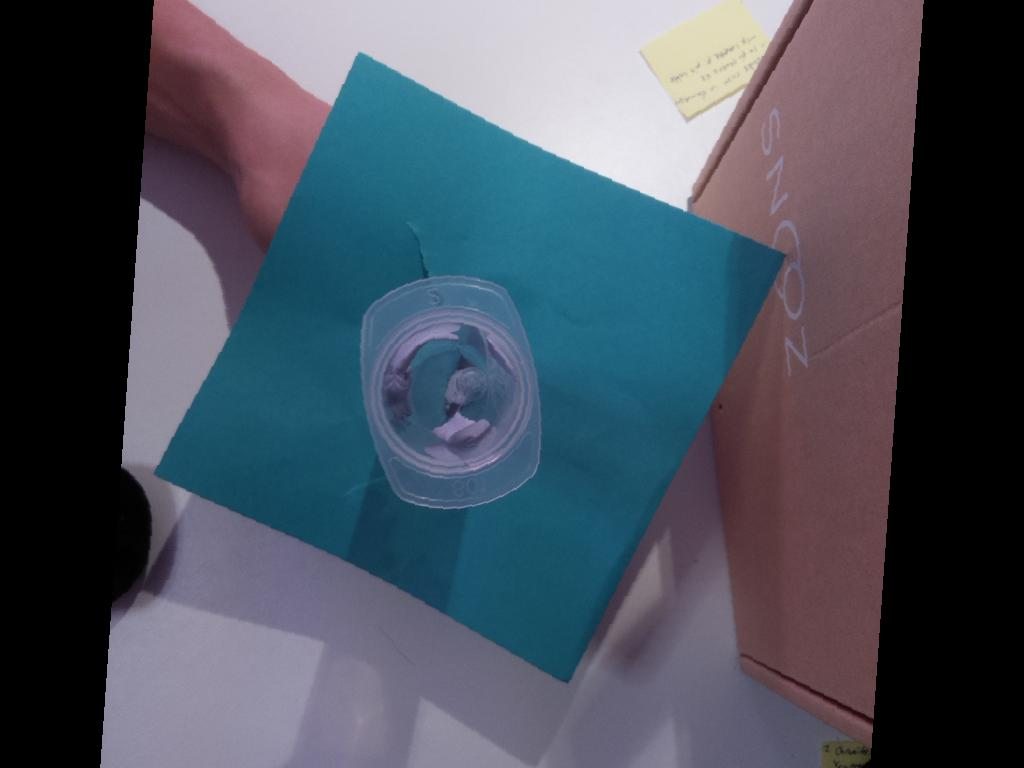dirty: (357, 275, 542, 509)
